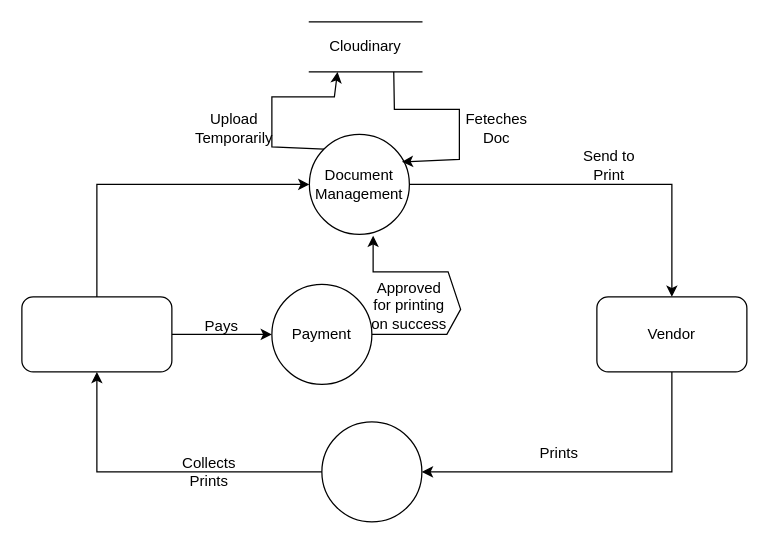
This 769x544 diagram has some shape labels left out. Here are the shapes that lost their labels. From the top down, the box of each, then its label:
(21, 296, 172, 372): Student
(321, 421, 422, 522): Print Documents
